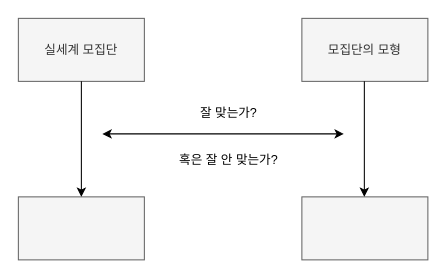
The diagram is 446 pixels wide and 278 high, and some of its shapes have lost their labels. The centre of each missing label's shape, as x and y in pixels:
실세계 표본: (x=80, y=228)
표본의 모형: (x=364, y=228)
